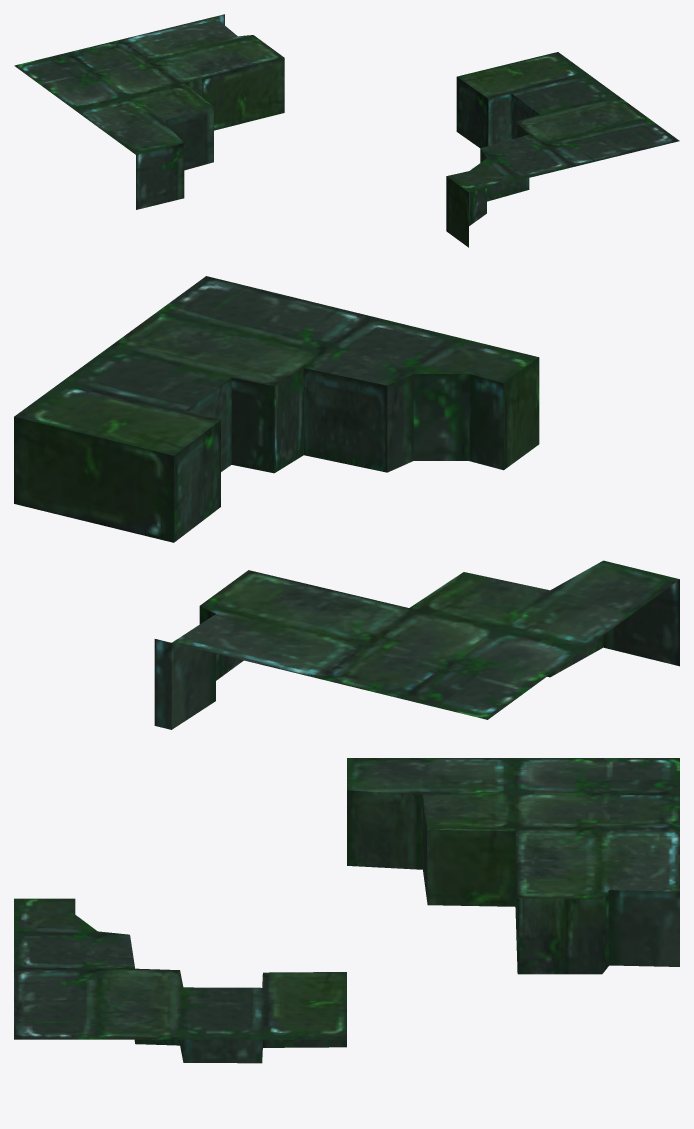
File: stemple_floor_diagonal_noshadow_03a.fbx
The picture shows the model from 3 angles, top to bottom: view 1: azimuth 30°, elevation 25°; view 2: azimuth 150°, elevation 25°; view 3: azimuth 270°, elevation 25°; orthographic projection. The views are drawn at different scales.
Visible parts, largest first — view 1: obj0.436; view 2: obj0.436; view 3: obj0.436.
Part boxes in pixels (bbox=[...]): obj0.436: bbox=[14, 14, 679, 247]; obj0.436: bbox=[14, 276, 679, 729]; obj0.436: bbox=[14, 758, 679, 1063].
Bounding box in the file's own units: 4 × 0.5 × 4.
